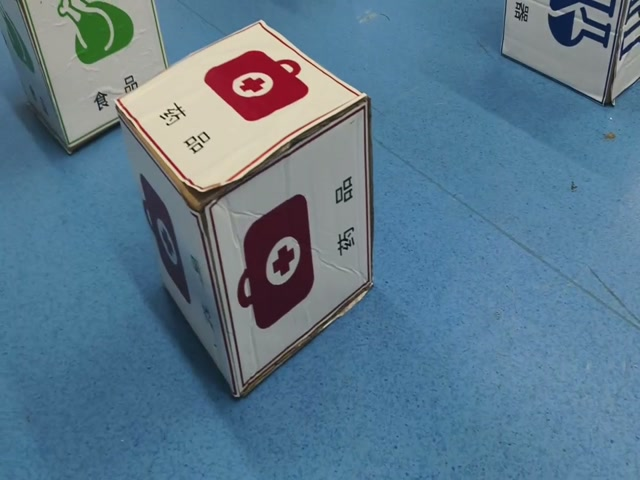Cube_medicine: (116, 28, 374, 199)
